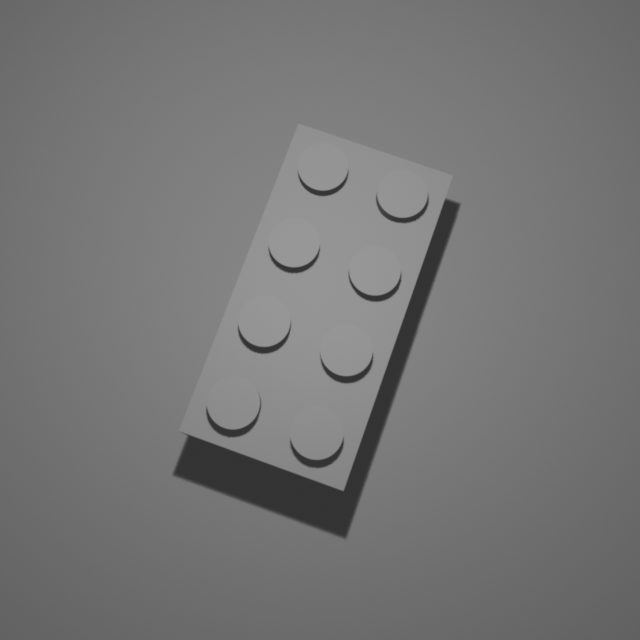lego_2x4: (176, 117, 456, 492)
